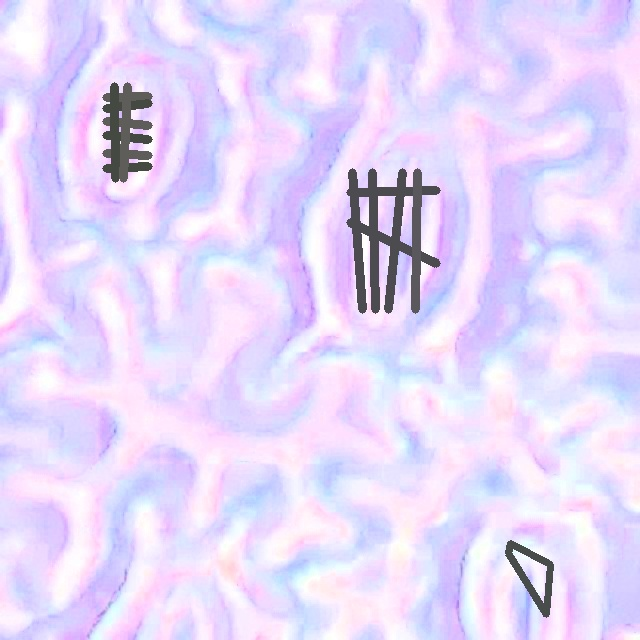open: (346, 168, 440, 313), (102, 83, 151, 181), (505, 540, 553, 617)
